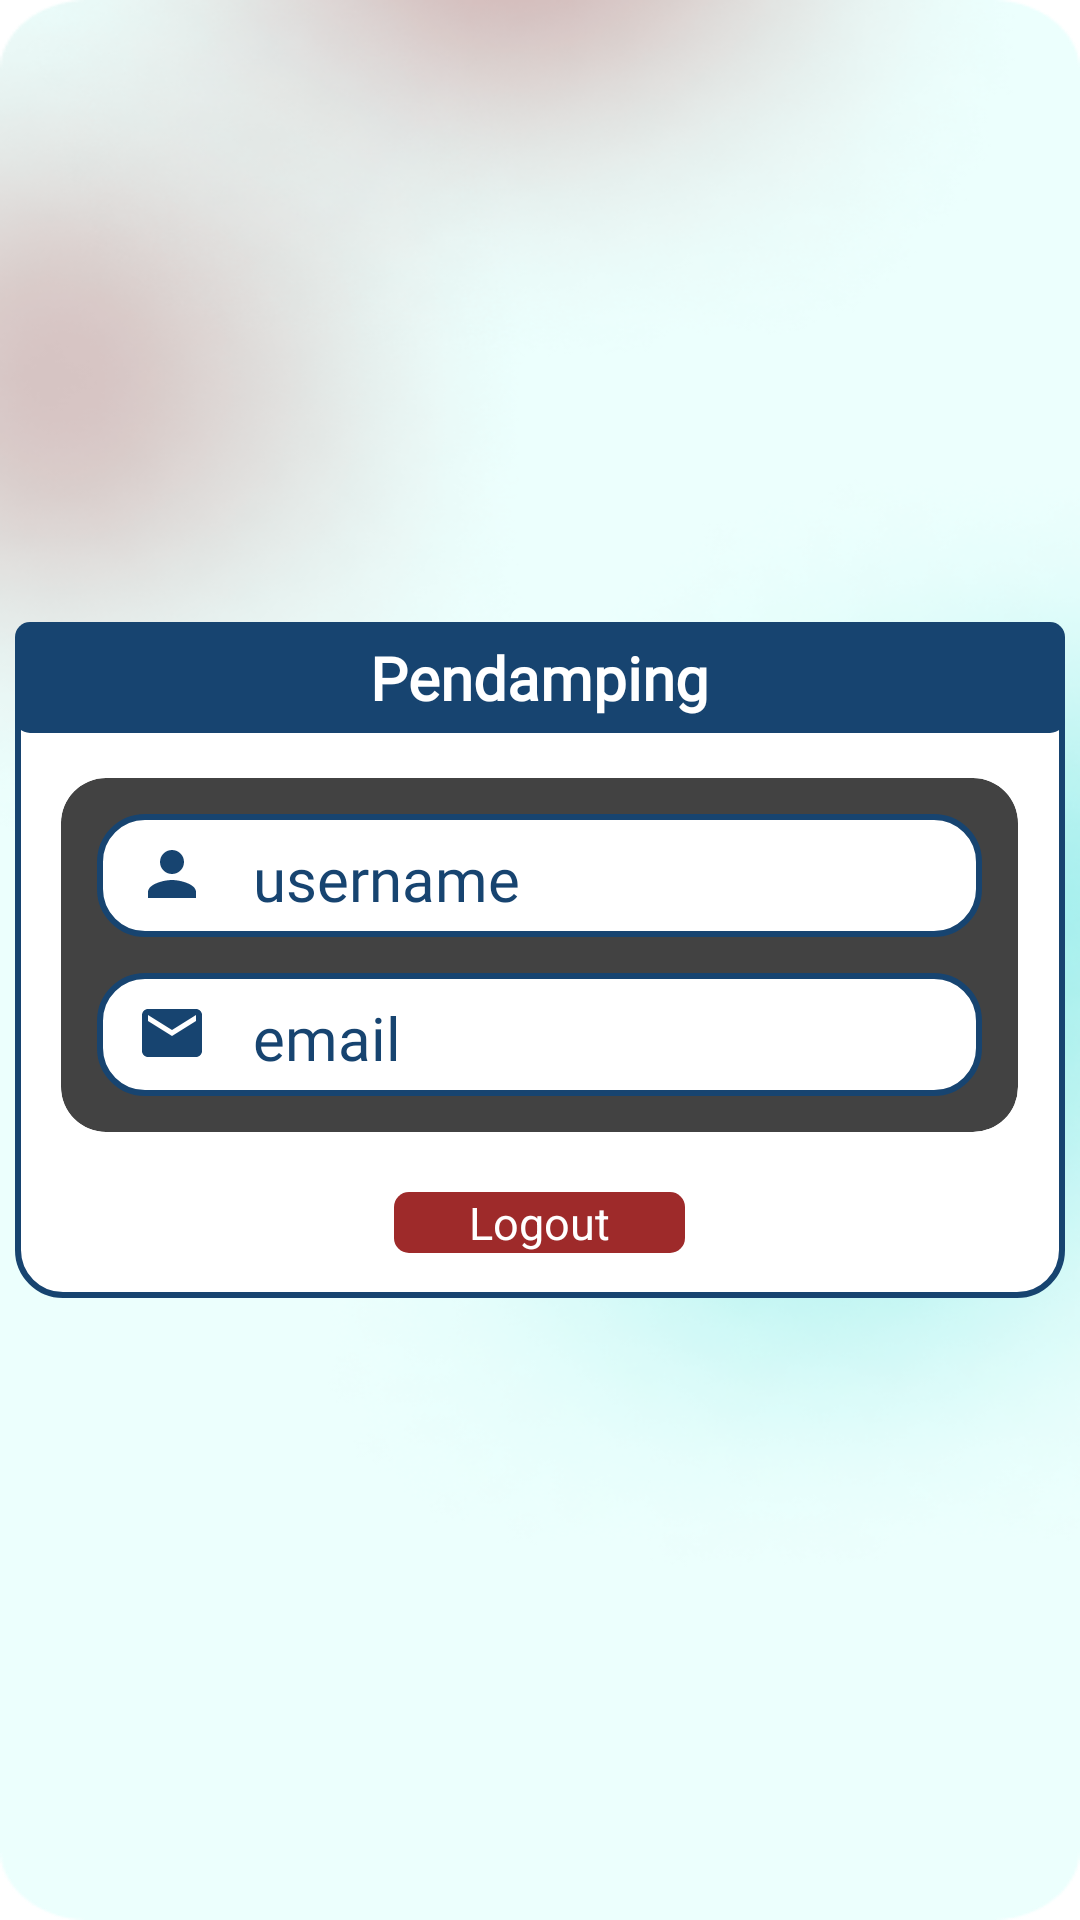

Named icons in this screenshot (1080 × 1920) and their centers, [x,y]:
person: [172,874]
